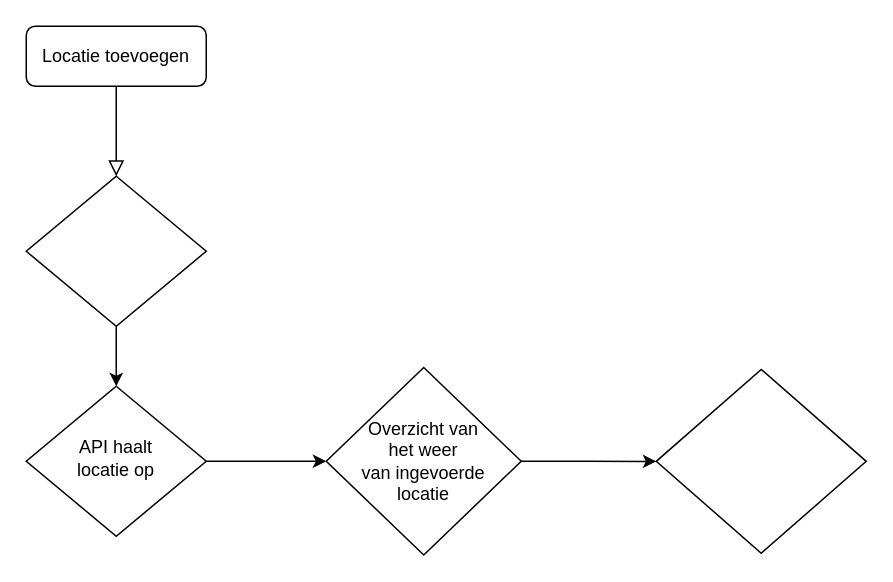
The diagram is 893 pixels wide and 582 high, and some of its shapes have lost their labels. The box of each missing label's shape, as (x1, y1, x2, y2) in pixels:
Locatie invoeren: (25, 175, 206, 326)
Locatie word opgeslagen in database: (655, 368, 866, 553)
